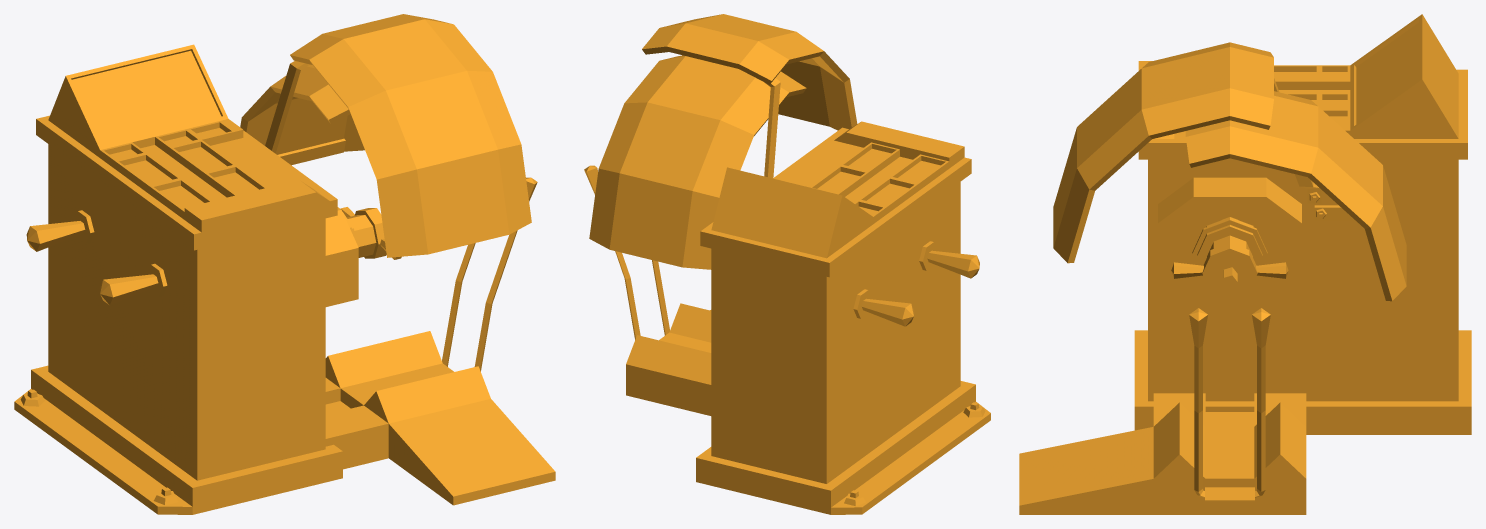
The model's file is SM_Wheelbalancer.fbx.
3 views of the same model, side by side, from view 1: azimuth 30°, elevation 25°; view 2: azimuth 150°, elevation 25°; view 3: azimuth 270°, elevation 25° (orthographic). The views are drawn at different scales.
Visible parts, largest first — view 1: SM_Wheelbalancer; view 2: SM_Wheelbalancer; view 3: SM_Wheelbalancer.
Part boxes in pixels (x1=…): SM_Wheelbalancer: x1=14, y1=14, x2=555, y2=514; SM_Wheelbalancer: x1=584, y1=14, x2=990, y2=514; SM_Wheelbalancer: x1=1019, y1=14, x2=1471, y2=514.
Bounding box in the file's own units: 1.65 × 1.47 × 1.46.
